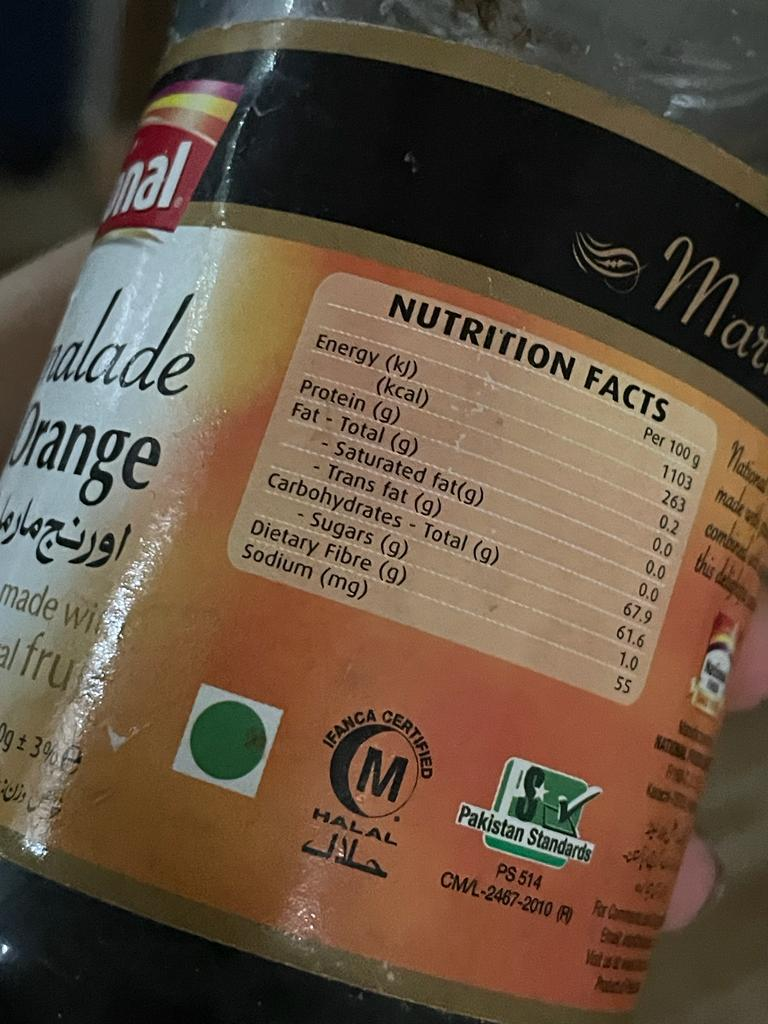table: (221, 266, 718, 713)
